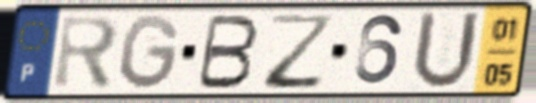6: (353, 11, 405, 90)
B: (193, 13, 263, 92)
G: (118, 12, 184, 93)
R: (51, 13, 123, 92)
U: (408, 8, 483, 93)
Z: (262, 11, 337, 91)
